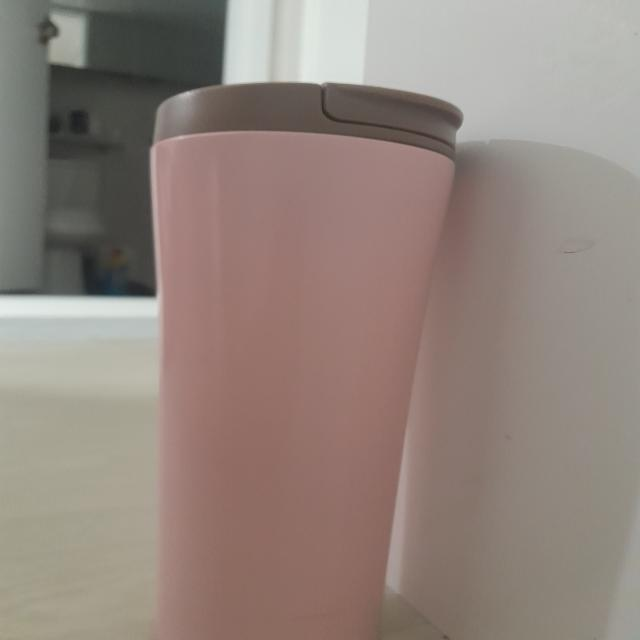waterbottle: (142, 83, 462, 640)
